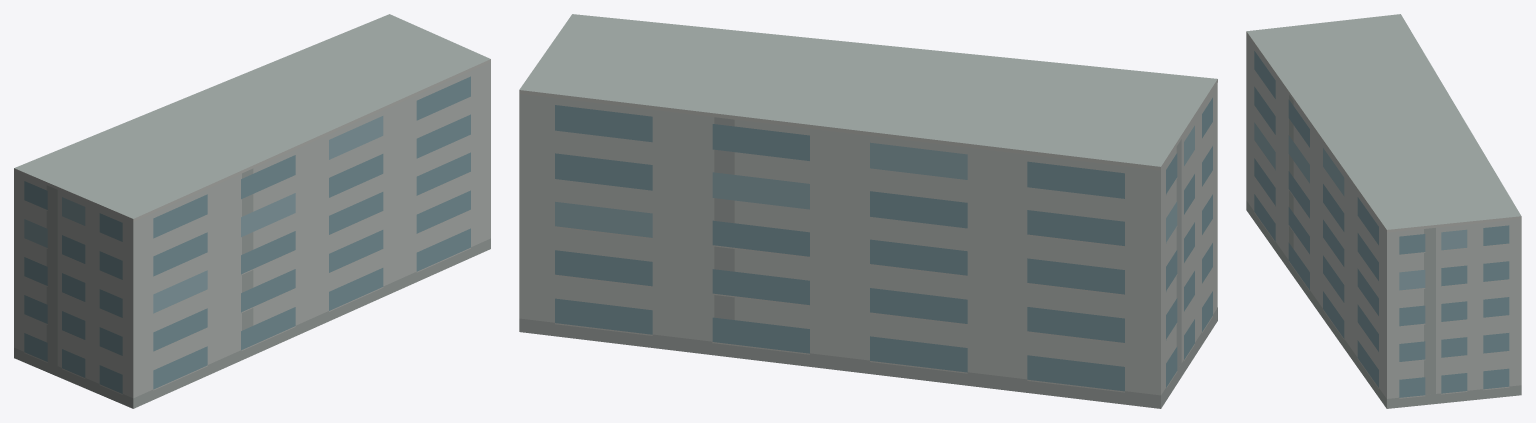
The model's file is residential-3e64651b-09c2-4e88-8574-2c9249da34c7.glb.
3 renders of one model, left to right at view 1: azimuth 30°, elevation 25°; view 2: azimuth 150°, elevation 25°; view 3: azimuth 270°, elevation 25°, orthographic. The views are drawn at different scales.
Visible parts, largest first — view 1: residential-3e64651b-09c2-4e88-8574-2c9249da34c7.tmp; view 2: residential-3e64651b-09c2-4e88-8574-2c9249da34c7.tmp; view 3: residential-3e64651b-09c2-4e88-8574-2c9249da34c7.tmp.
Part boxes in pixels (left/top/right/bottom): residential-3e64651b-09c2-4e88-8574-2c9249da34c7.tmp: left=14, top=14, right=490, bottom=408; residential-3e64651b-09c2-4e88-8574-2c9249da34c7.tmp: left=519, top=14, right=1217, bottom=408; residential-3e64651b-09c2-4e88-8574-2c9249da34c7.tmp: left=1246, top=14, right=1521, bottom=408.
Bounding box in the file's own units: 39.45 × 15.25 × 21.25.
